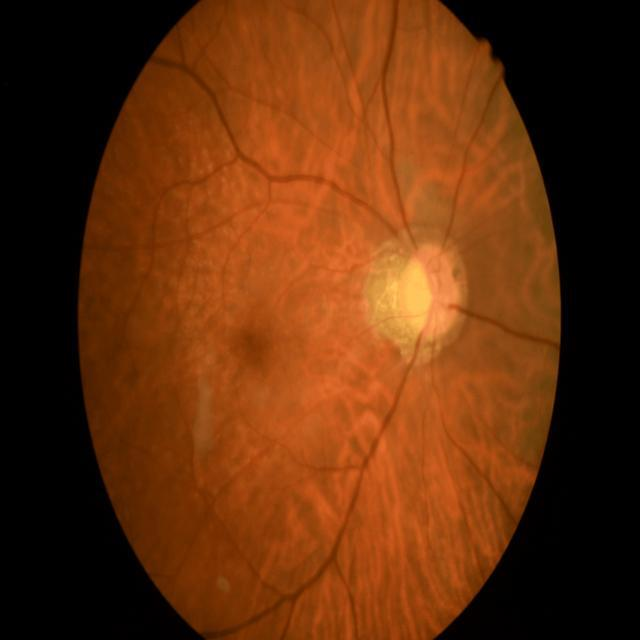cup: (399, 256, 447, 327)
disk: (397, 240, 470, 347)
